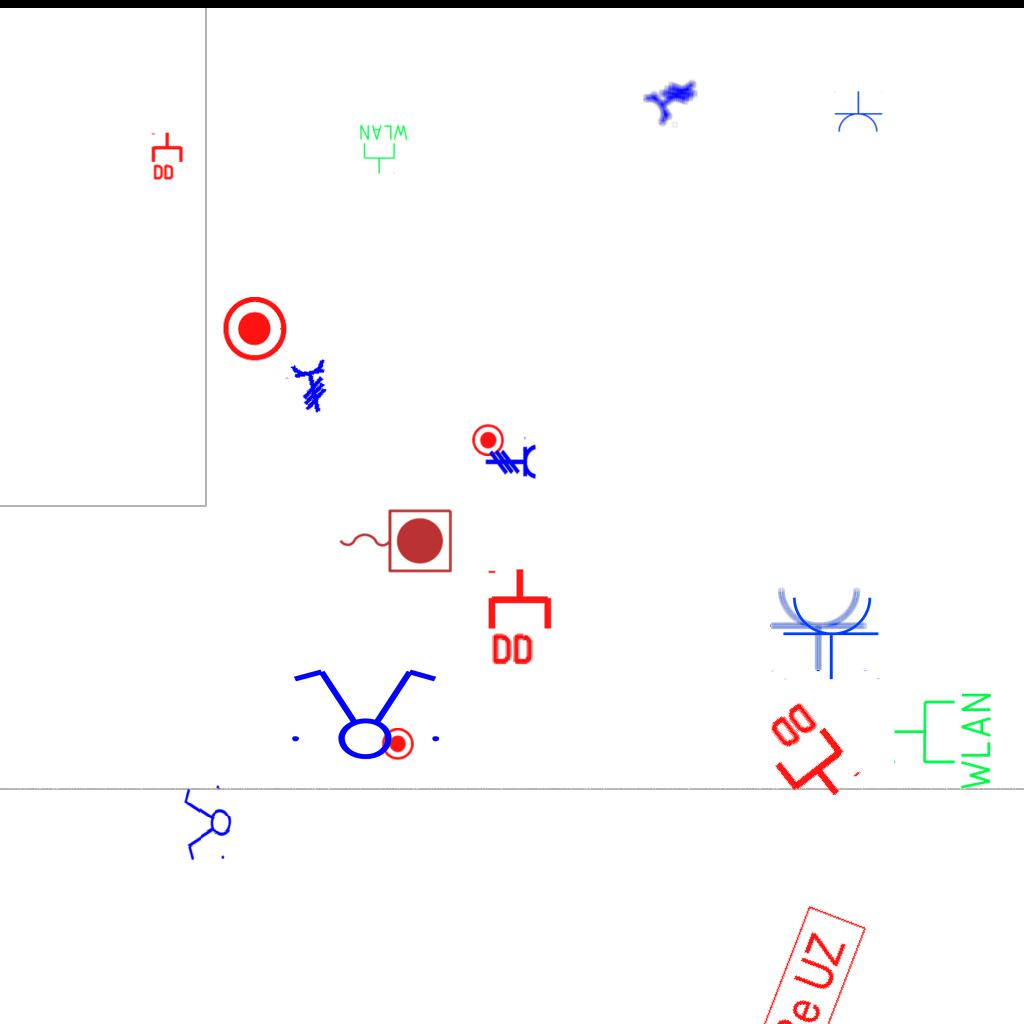CEE_Drehstrom_Steckdose_16_32_A: (641, 67, 710, 135), (281, 357, 336, 419), (485, 435, 537, 480)
Datenanschluss_zweifach: (746, 694, 865, 819), (487, 566, 556, 669), (151, 131, 185, 182)
Schukosteckdose_einfach: (769, 585, 869, 672), (782, 593, 882, 680), (833, 91, 883, 134)
Serienschalter: (280, 665, 448, 761), (181, 780, 235, 868)
Taster: (221, 297, 287, 363), (381, 728, 414, 761), (472, 423, 505, 456)
WLAN: (891, 689, 995, 794), (358, 123, 410, 175)
Zentrale_Sicherheitsbeleuchtung: (744, 902, 870, 1024)
Zugtaster: (334, 504, 456, 576)
